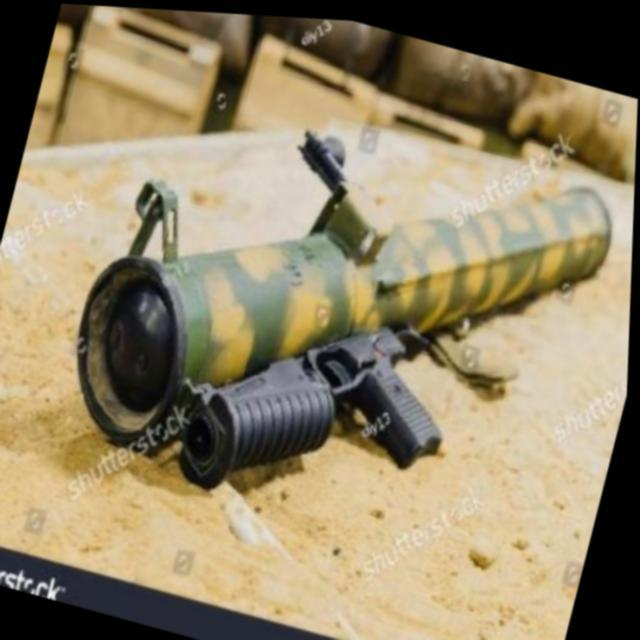weapon: (47, 54, 627, 574)
